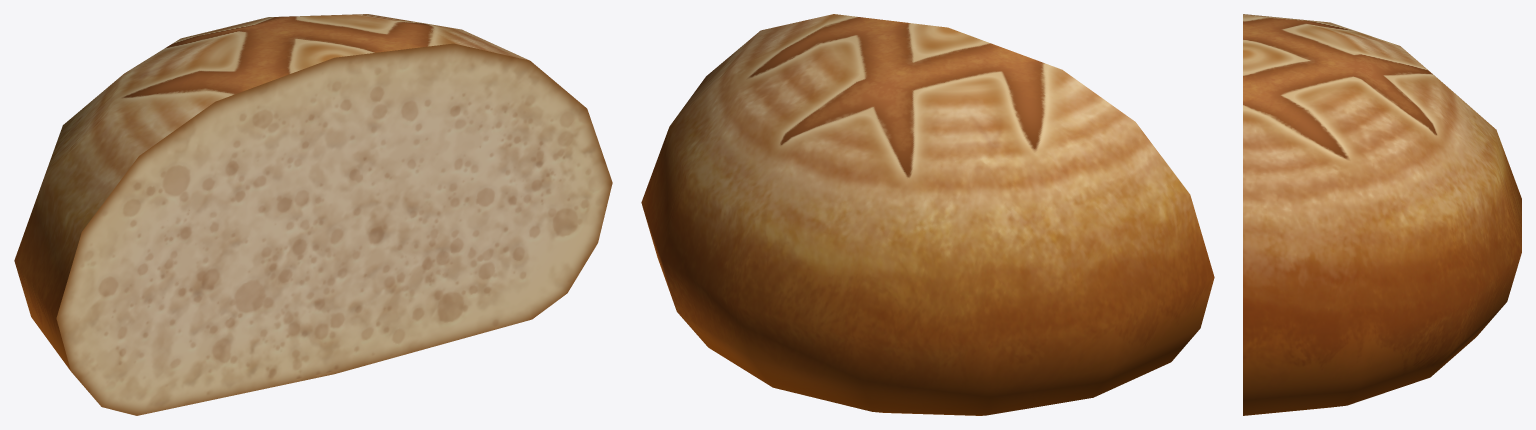
File: Sourdough_Half.fbx
The picture shows the model from 3 angles, left to right: view 1: azimuth 30°, elevation 25°; view 2: azimuth 150°, elevation 25°; view 3: azimuth 270°, elevation 25°; orthographic projection. The views are drawn at different scales.
Visible parts, largest first — view 1: Sourdough_Half; view 2: Sourdough_Half; view 3: Sourdough_Half.
Boxes of the visible parts, box(x1,y1,x2,y2) form: Sourdough_Half: box(14, 14, 612, 415); Sourdough_Half: box(641, 14, 1214, 415); Sourdough_Half: box(1243, 14, 1521, 415).
Bounding box in the file's own units: 72.45 × 39.39 × 35.31.
